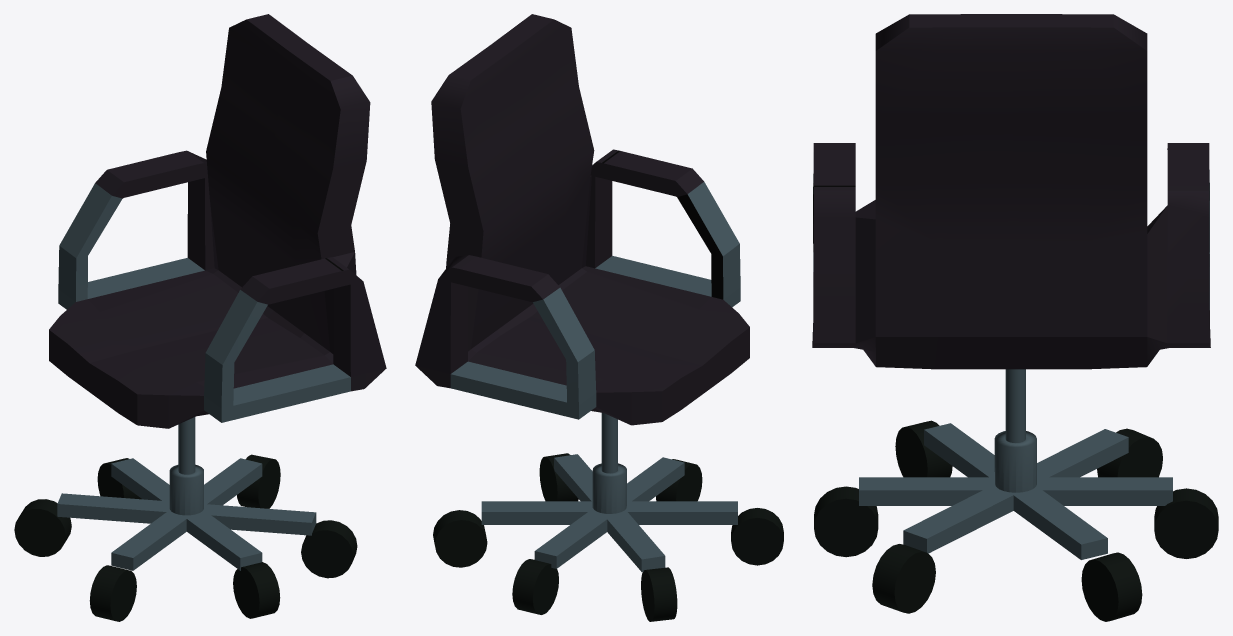
Rendered from Additive_Chair_Mesh.obj.
3 renders of one model, left to right at view 1: azimuth 30°, elevation 25°; view 2: azimuth 150°, elevation 25°; view 3: azimuth 270°, elevation 25°, orthographic. The views are drawn at different scales.
Visible parts, largest first — view 1: pCylinder8 polySurface8, polySurface15, pCylinder8 polySurface4, pCylinder8 polySurface1, pCylinder8 polySurface3, polySurface7 pCylinder8, pCylinder8 polySurface5, pCylinder8 polySurface6; view 2: pCylinder8 polySurface8, polySurface15, pCylinder8 polySurface5, pCylinder8 polySurface3, pCylinder8 polySurface6, pCylinder8 polySurface1, polySurface7 pCylinder8, pCylinder8 polySurface4; view 3: pCylinder8 polySurface8, polySurface15, pCylinder8 polySurface6, polySurface7 pCylinder8, pCylinder8 polySurface4, pCylinder8 polySurface5, pCylinder8 polySurface3, pCylinder8 polySurface1.
Part boxes in pixels (bbox=[...]): pCylinder8 polySurface8: bbox=[49, 14, 386, 428]; polySurface15: bbox=[57, 417, 316, 570]; pCylinder8 polySurface4: bbox=[301, 520, 357, 578]; pCylinder8 polySurface1: bbox=[14, 499, 71, 556]; pCylinder8 polySurface3: bbox=[89, 565, 136, 621]; polySurface7 pCylinder8: bbox=[233, 562, 280, 618]; pCylinder8 polySurface5: bbox=[237, 454, 280, 508]; pCylinder8 polySurface6: bbox=[97, 458, 141, 499]; pCylinder8 polySurface8: bbox=[415, 14, 749, 425]; polySurface15: bbox=[481, 413, 737, 571]; pCylinder8 polySurface5: bbox=[433, 510, 487, 567]; pCylinder8 polySurface3: bbox=[731, 508, 783, 565]; pCylinder8 polySurface6: bbox=[512, 559, 558, 614]; pCylinder8 polySurface1: bbox=[641, 567, 677, 621]; polySurface7 pCylinder8: bbox=[656, 459, 702, 501]; pCylinder8 polySurface4: bbox=[539, 453, 578, 501]; pCylinder8 polySurface8: bbox=[812, 14, 1210, 369]; polySurface15: bbox=[859, 369, 1172, 559]; pCylinder8 polySurface6: bbox=[1154, 488, 1218, 558]; polySurface7 pCylinder8: bbox=[814, 486, 878, 557]; pCylinder8 polySurface4: bbox=[872, 544, 935, 613]; pCylinder8 polySurface5: bbox=[1081, 552, 1142, 621]; pCylinder8 polySurface3: bbox=[895, 420, 952, 477]; pCylinder8 polySurface1: bbox=[1097, 428, 1162, 477].
Size of the model in its own units: 6.21 by 10.69 by 6.61.
